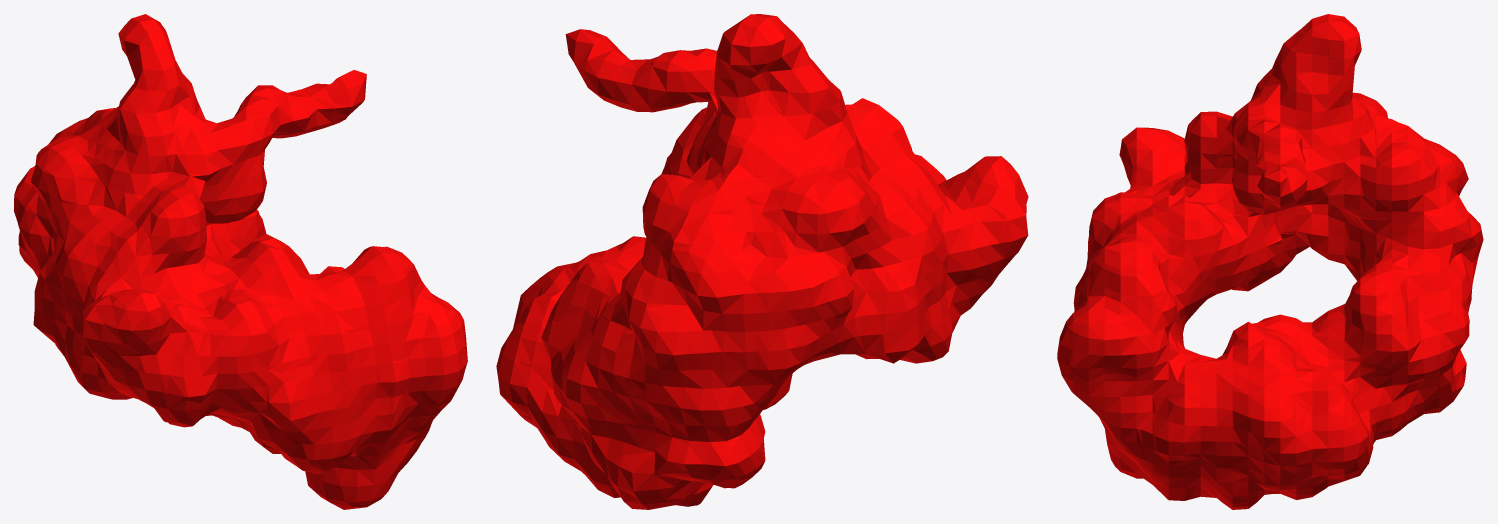
File: sbcC_coarse.dae
3 views of the same model, side by side, from view 1: azimuth 30°, elevation 25°; view 2: azimuth 150°, elevation 25°; view 3: azimuth 270°, elevation 25° (orthographic). The views are drawn at different scales.
Parts seen in each view (by area): view 1: sbcC; view 2: sbcC; view 3: sbcC.
Part boxes in pixels (bbox=[...]): sbcC: bbox=[14, 14, 467, 509]; sbcC: bbox=[496, 14, 1028, 509]; sbcC: bbox=[1057, 14, 1483, 509].
Bounding box in the file's own units: 94.02 × 105 × 96.6.
